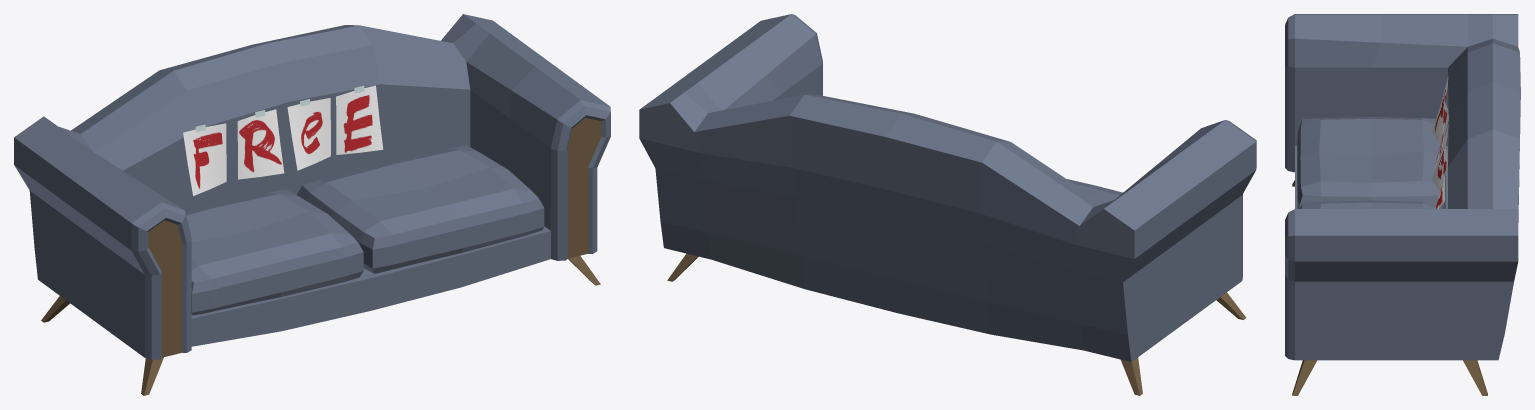
Rendered from couch_mdl_v001.fbx.
3 renders of one model, left to right at view 1: azimuth 30°, elevation 25°; view 2: azimuth 150°, elevation 25°; view 3: azimuth 270°, elevation 25°, orthographic. The views are drawn at different scales.
Visible parts, largest first — view 1: couch, pCube6, R_cushion, paperE, paperR, paperF, paperee; view 2: couch; view 3: couch, R_cushion, pCube6, L_FT_leg, L_RR_leg, paperee, paperF, paperE, paperR.
Part boxes in pixels (<box>): couch: <box>14,14,610,359</box>; pCube6: <box>297,145,544,273</box>; R_cushion: <box>185,189,363,315</box>; paperE: <box>336,85,383,154</box>; paperR: <box>237,109,284,179</box>; paperF: <box>183,123,226,195</box>; paperee: <box>287,98,330,170</box>; couch: <box>639,14,1256,361</box>; couch: <box>1285,14,1520,360</box>; R_cushion: <box>1297,117,1445,208</box>; pCube6: <box>1300,200,1442,208</box>; L_FT_leg: <box>1292,360,1316,395</box>; L_RR_leg: <box>1463,360,1487,395</box>; paperee: <box>1432,124,1448,191</box>; paperF: <box>1432,76,1448,143</box>; paperE: <box>1435,146,1447,208</box>; paperR: <box>1433,100,1448,172</box>.
Bounding box in the file's own units: 93.51 × 40.92 × 42.04.
7 materials, 4 textured.
